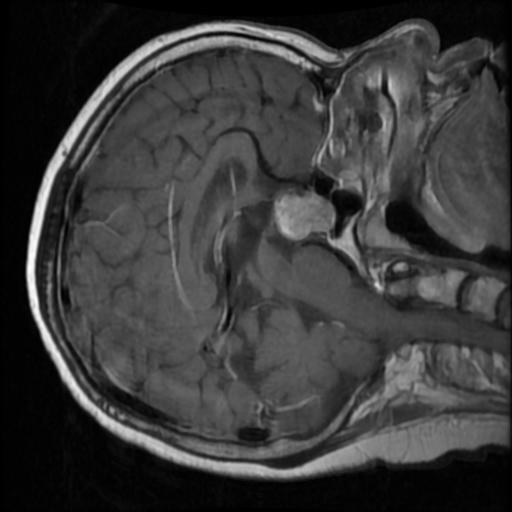pituitary tumour: (272, 192, 333, 241)
